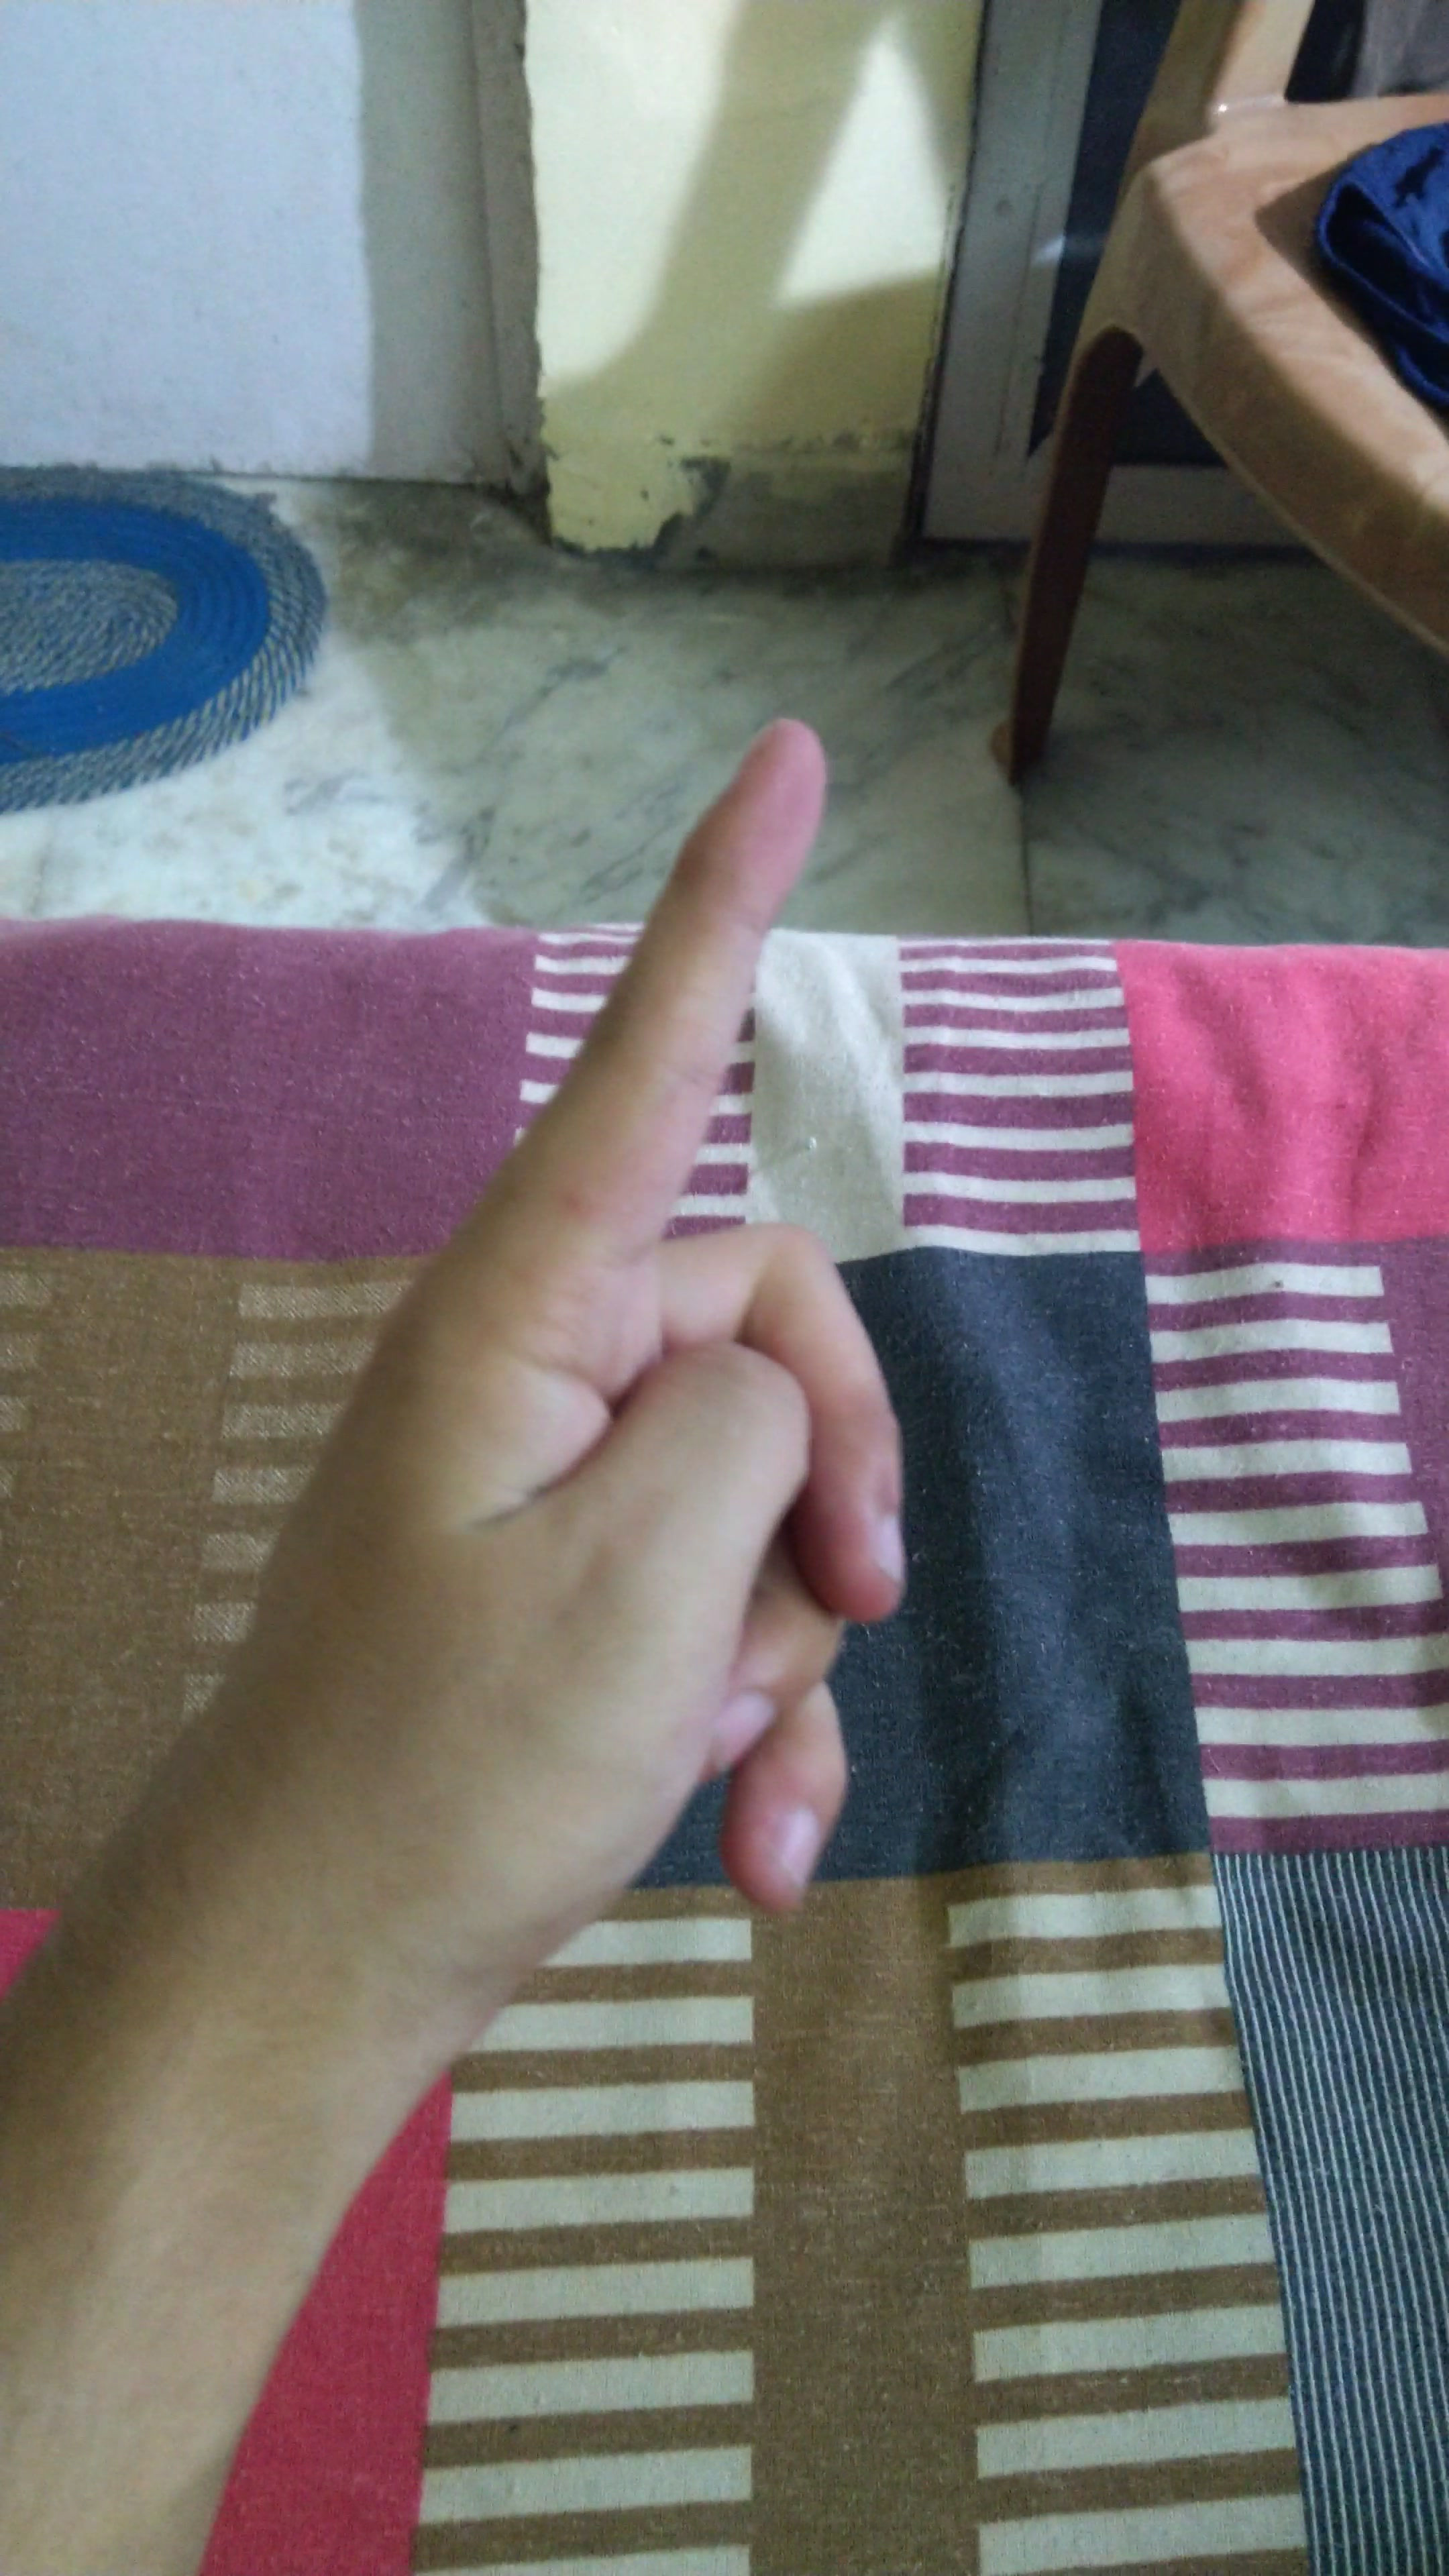hand: (244, 658, 980, 2029)
